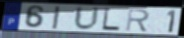1: (165, 9, 177, 34)
6: (23, 4, 45, 30)
I: (52, 5, 62, 30)
L: (101, 7, 122, 32)
R: (124, 8, 151, 33)
U: (73, 6, 102, 32)
